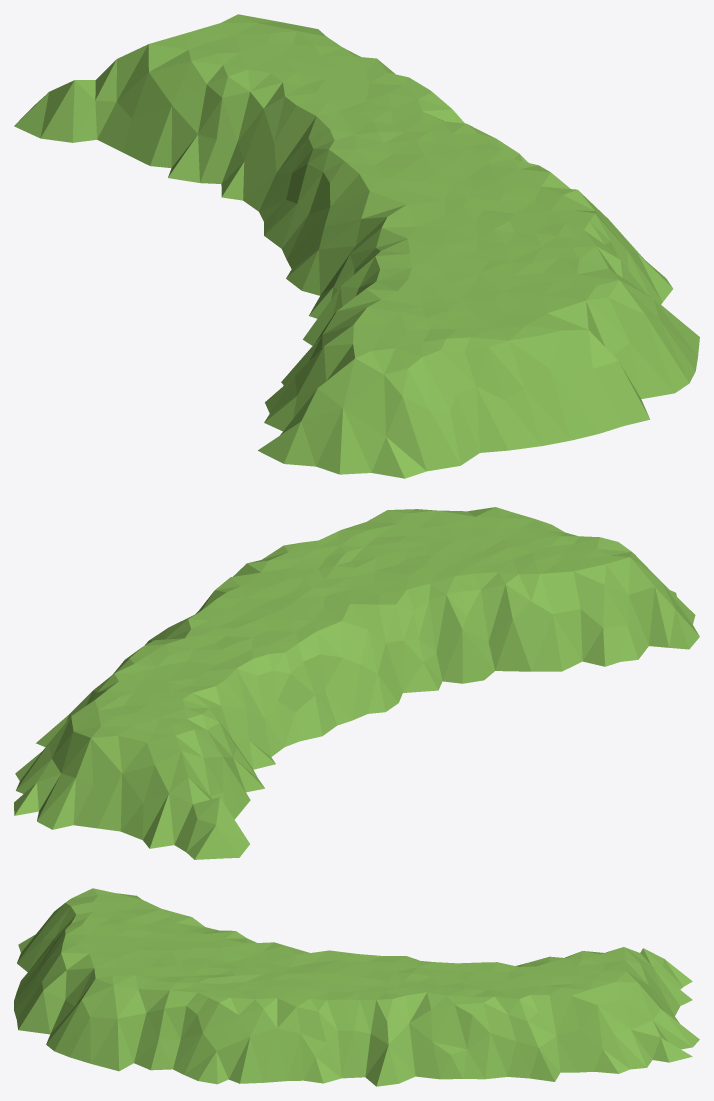
The model's file is MT_Island_L_a_04.fbx.
The picture shows the model from 3 angles, top to bottom: view 1: azimuth 30°, elevation 25°; view 2: azimuth 150°, elevation 25°; view 3: azimuth 270°, elevation 25°; orthographic projection. The views are drawn at different scales.
Visible parts, largest first — view 1: MT_Island_L_a_04; view 2: MT_Island_L_a_04; view 3: MT_Island_L_a_04.
Part boxes in pixels (x1,y1,x2,y2): MT_Island_L_a_04: [14, 14, 699, 478]; MT_Island_L_a_04: [14, 507, 699, 859]; MT_Island_L_a_04: [14, 888, 699, 1086].
Bounding box in the file's own units: 5701 × 925 × 9740.
